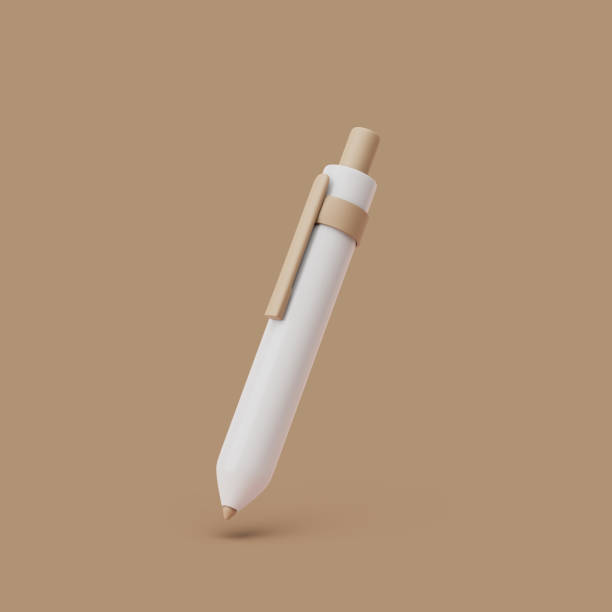pen: (190, 120, 398, 539)
